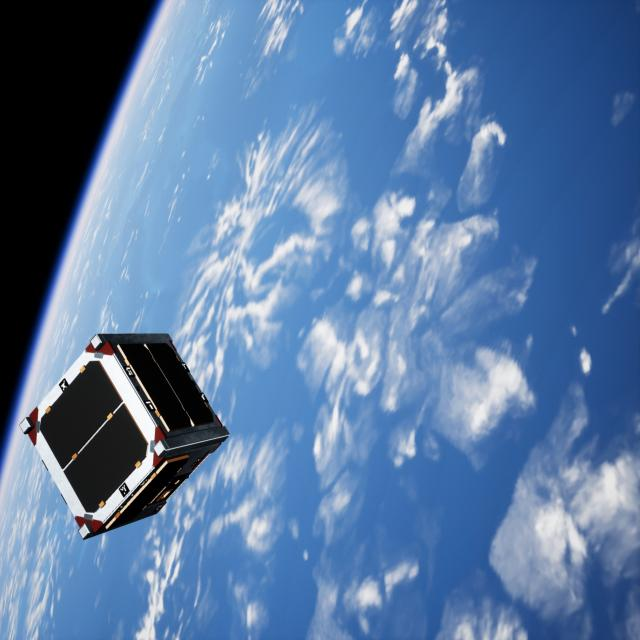satellite: (17, 327, 230, 540)
